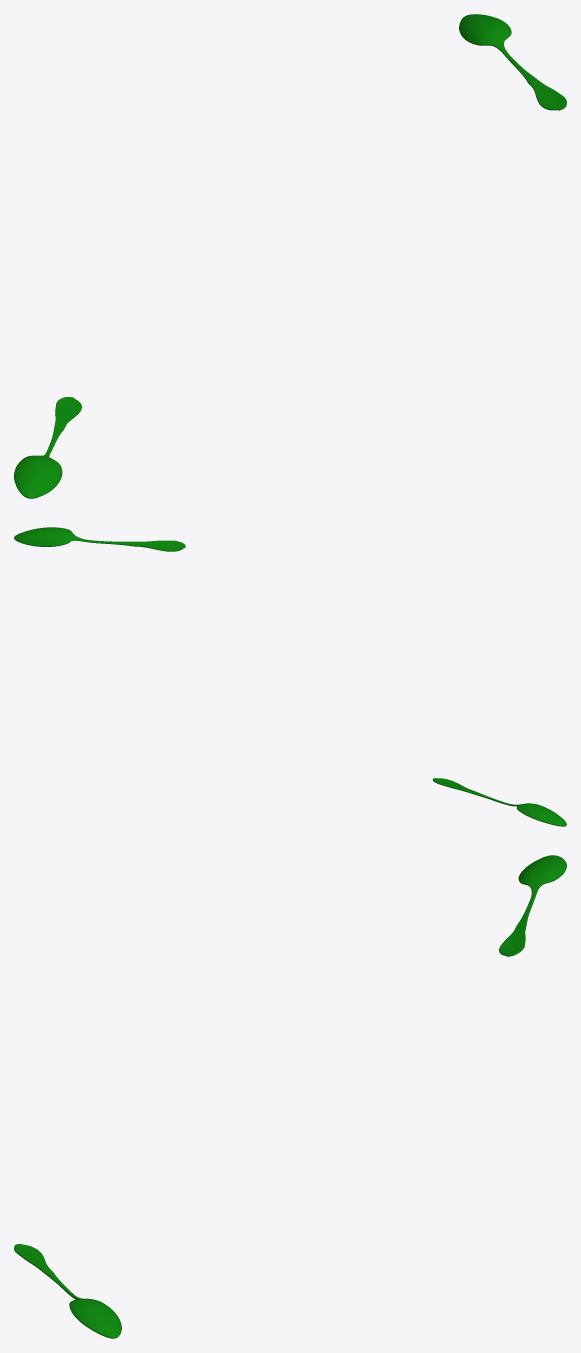
File: Spoons.FBX
3 renders of one model, top to bottom at view 1: azimuth 90°, elevation 25°; view 2: azimuth 150°, elevation 25°; view 3: azimuth 270°, elevation 25°, orthographic. The views are drawn at different scales.
Parts seen in each view (by area): view 1: Cutlery Uvs; view 2: Cutlery Uvs; view 3: Cutlery Uvs.
Boxes of the visible parts, x1,y1,x2,y2 form: Cutlery Uvs: [14, 14, 566, 498]; Cutlery Uvs: [14, 527, 566, 826]; Cutlery Uvs: [14, 855, 566, 1338].
Bounding box in the file's own units: 0.6684 × 0.00954 × 0.3238.
